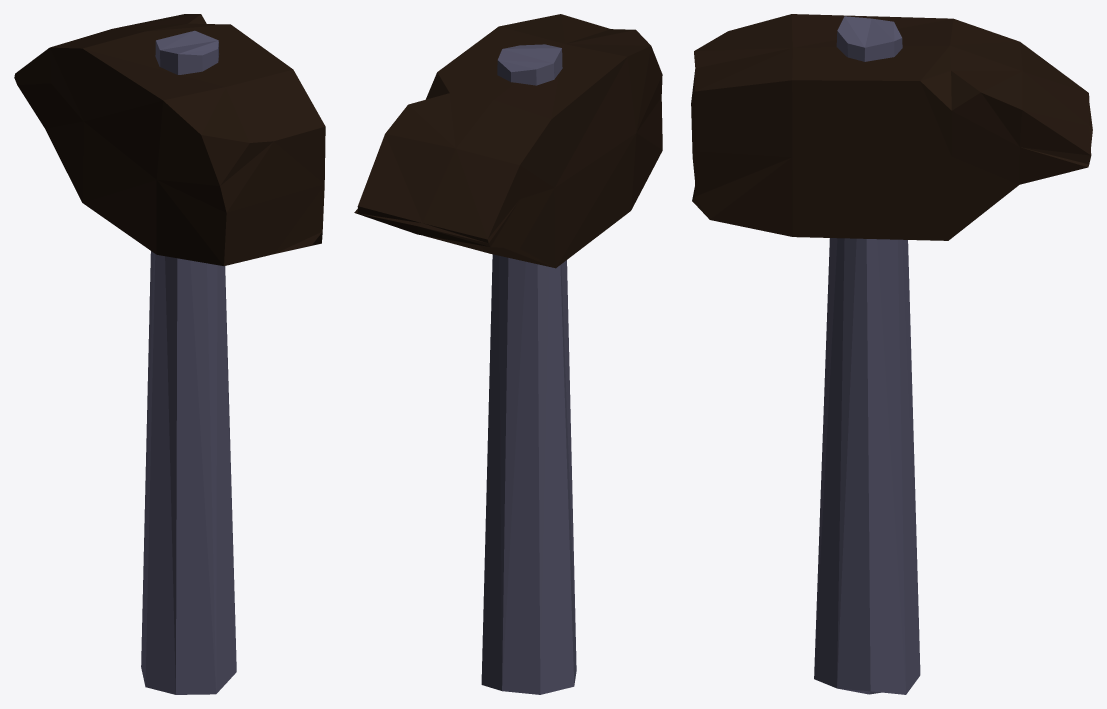
Rendered from SFFA_Hammer_007.fbx.
The picture shows the model from 3 angles, left to right: view 1: azimuth 30°, elevation 25°; view 2: azimuth 150°, elevation 25°; view 3: azimuth 270°, elevation 25°; orthographic projection. The views are drawn at different scales.
Parts seen in each view (by area): view 1: SFFA_Hammer_007; view 2: SFFA_Hammer_007; view 3: SFFA_Hammer_007.
Boxes of the visible parts, left/top/right/bottom form: SFFA_Hammer_007: left=14, top=14, right=325, bottom=694; SFFA_Hammer_007: left=354, top=14, right=662, bottom=694; SFFA_Hammer_007: left=691, top=14, right=1092, bottom=694.
Bounding box in the file's own units: 5.87 × 25.38 × 14.09.
